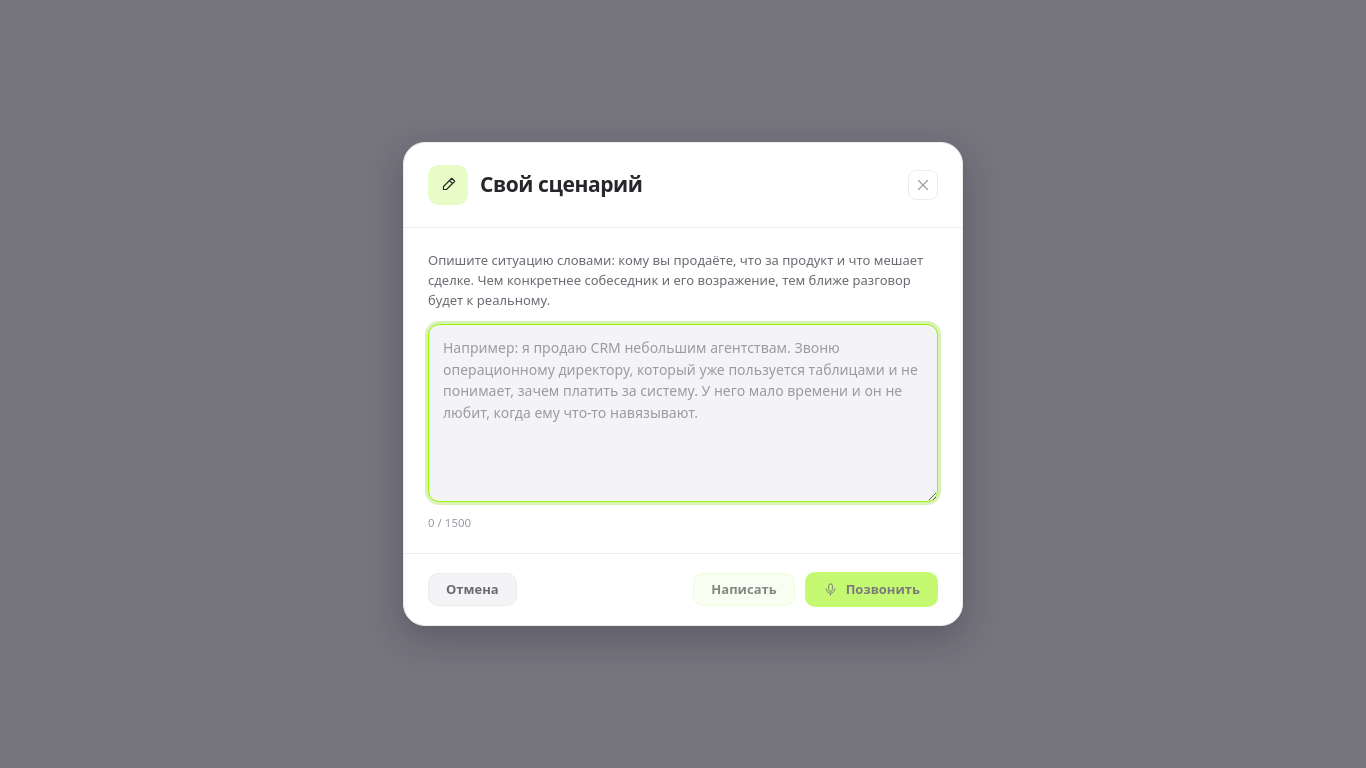
CustomScenarioModal › falls back to a readable message when a rejection carries no reason
Replace the text in the text box with "Я продаю CRM небольшим агентствам. Звоню директору, который пользуется таблицами.": x=683, y=413 [428,324,938,502]
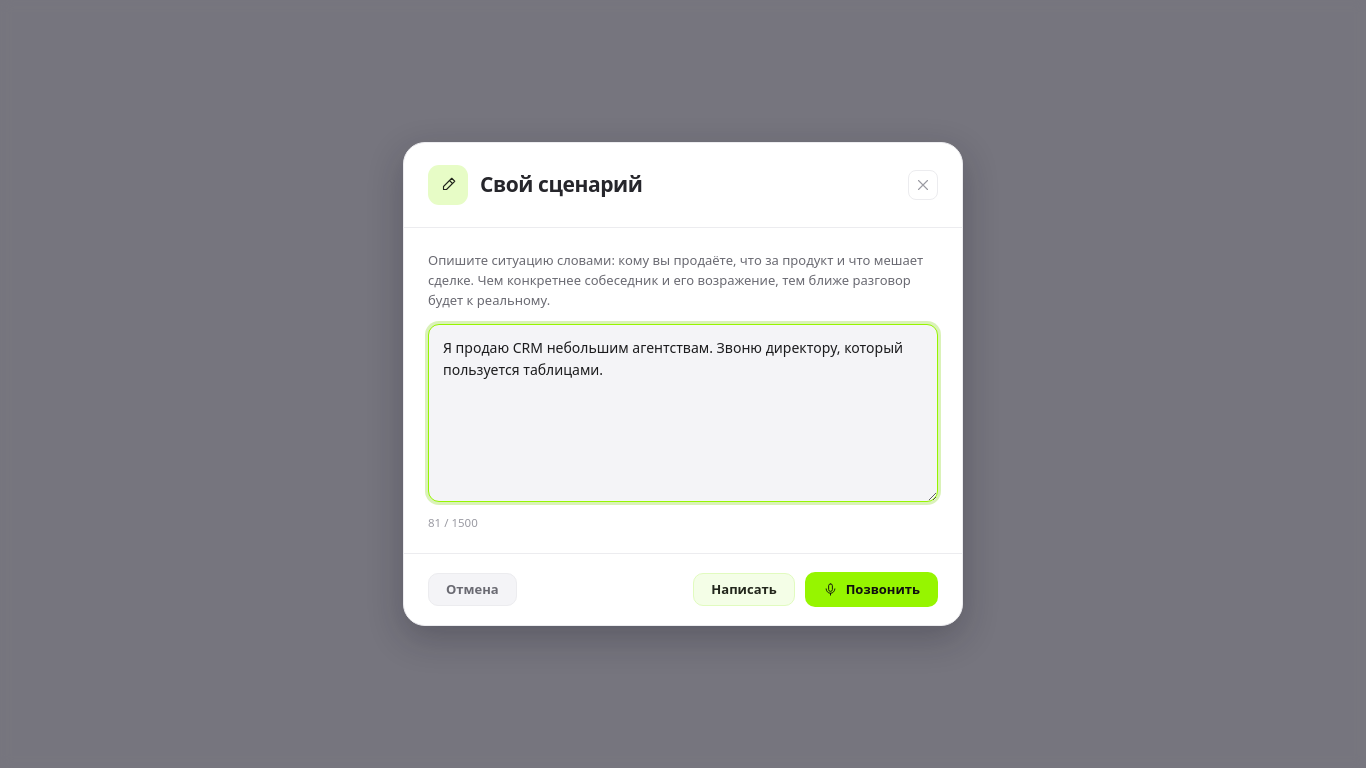
Click the button "Написать": x=744, y=590 [693,574,795,606]
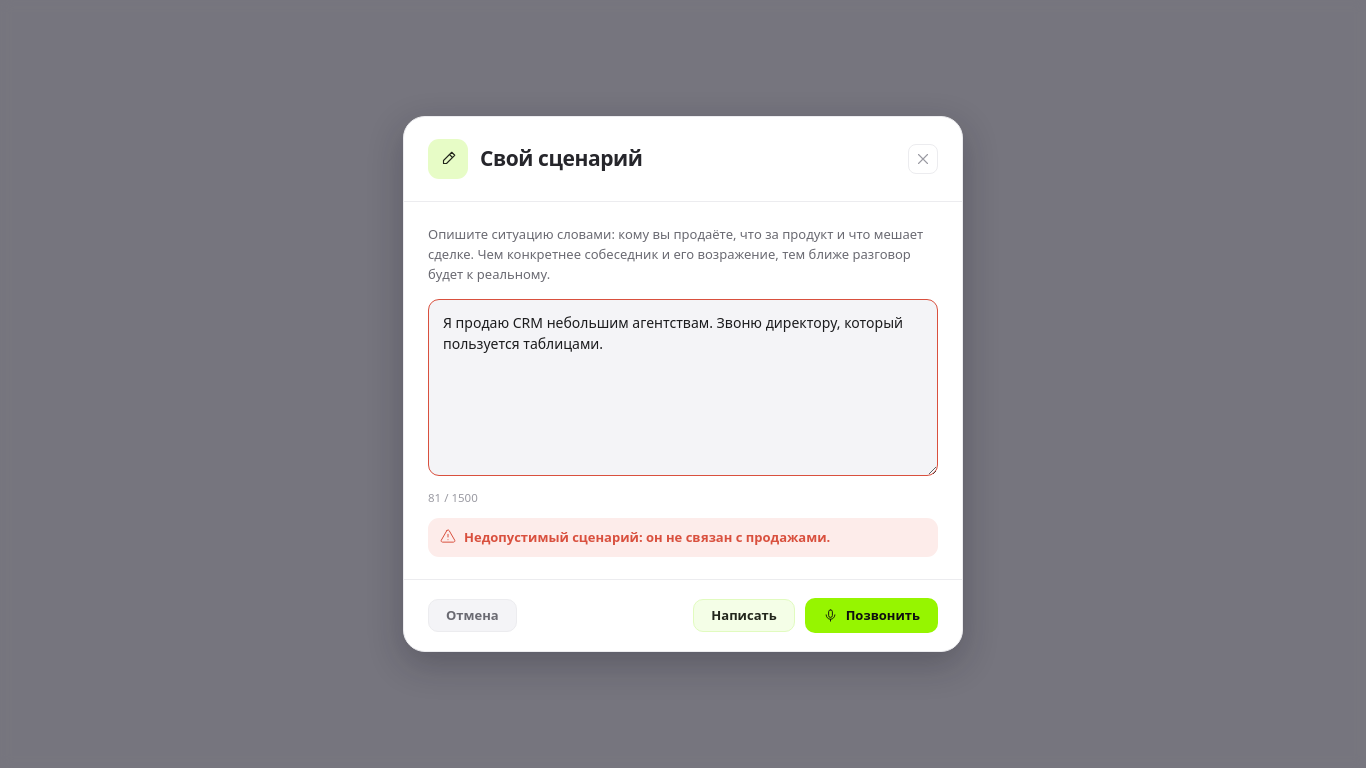
Check: the text "Недопустимый сценарий: он не связан с продажами." is shown, box [464,528,830,547]
